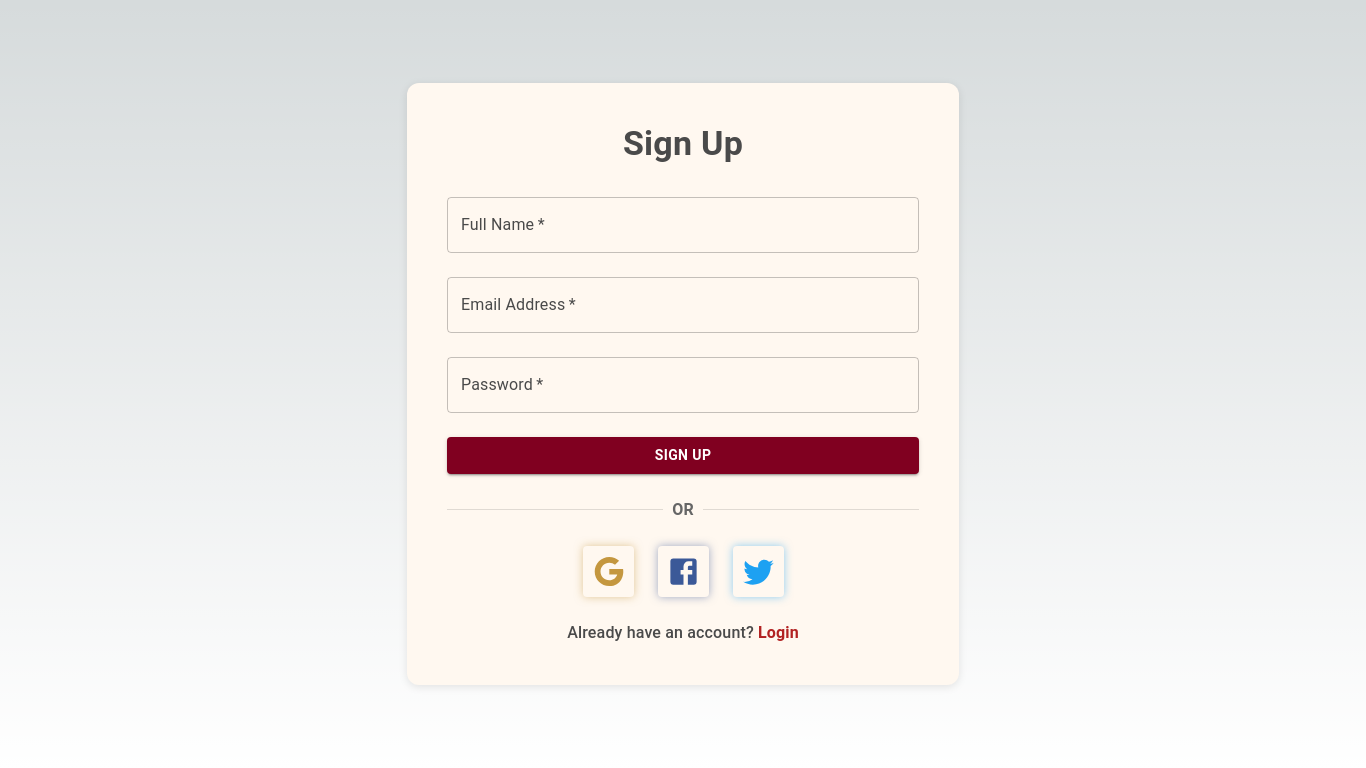
it: SignupPage › shows success and redirects on successful signup
The image size is (1366, 768).
Type "Test User" into the field labelled "Full Name *" at (683, 225), box left=447, top=197, right=919, bottom=253
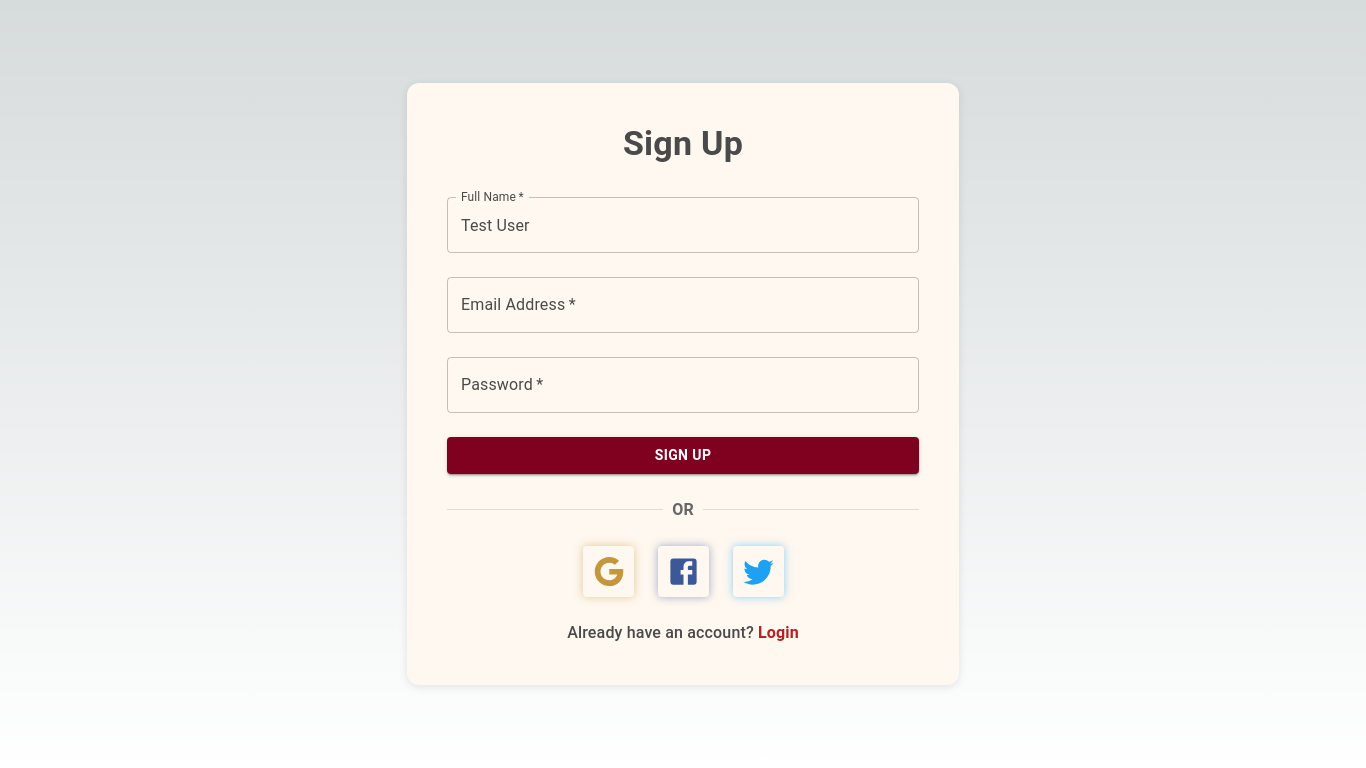
Type "test@example.com" into the field labelled "Email Address *" at (683, 305), box left=447, top=277, right=919, bottom=333
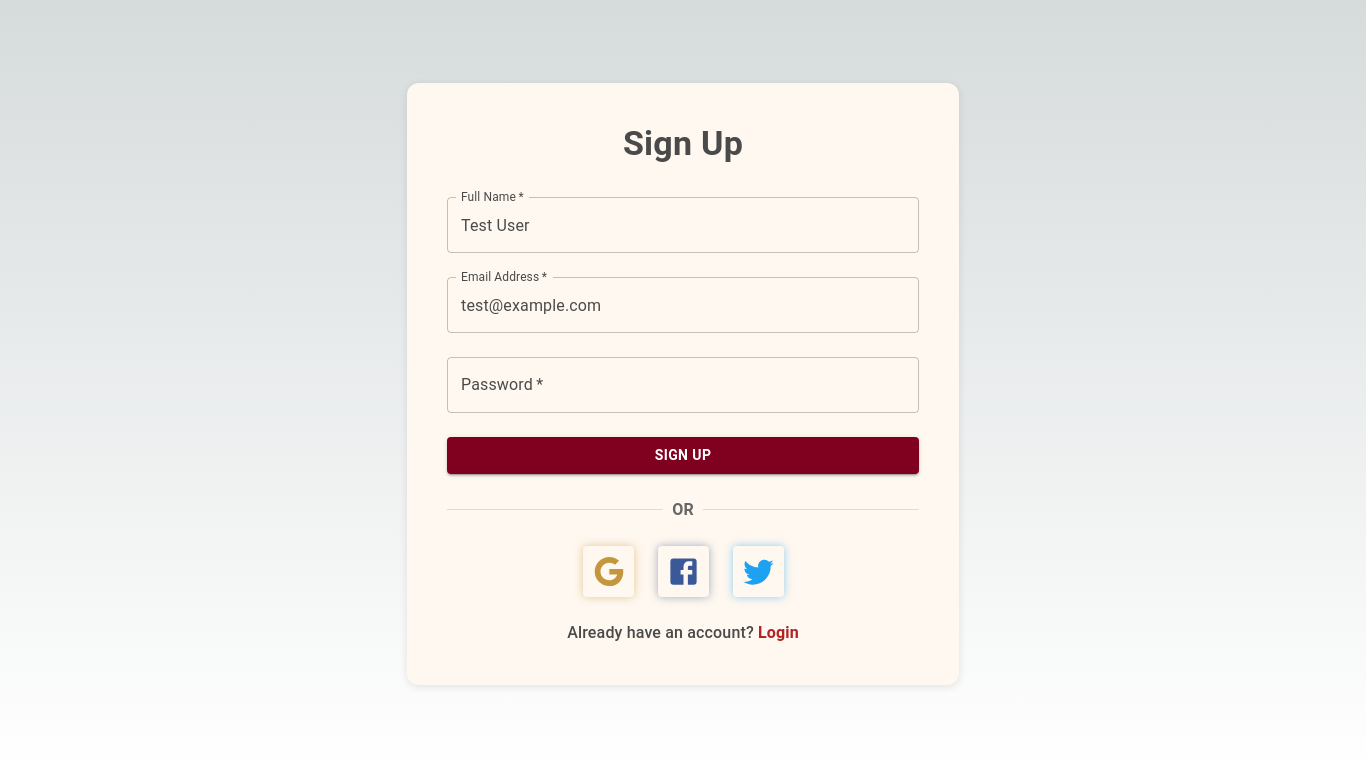
Type "password123" into the password field labelled "Password *" at (683, 385), box left=447, top=357, right=919, bottom=413
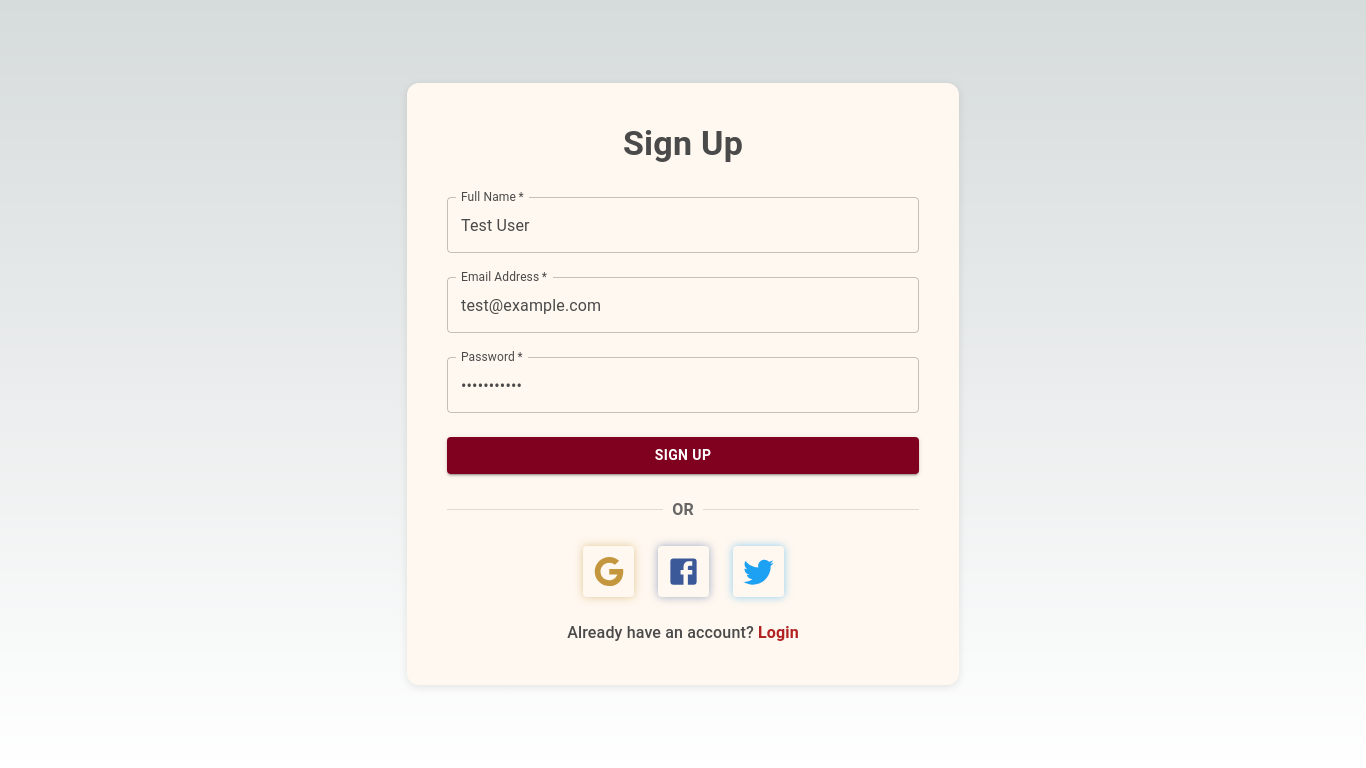
Click the button "Sign Up" at (683, 455), box left=447, top=437, right=919, bottom=474
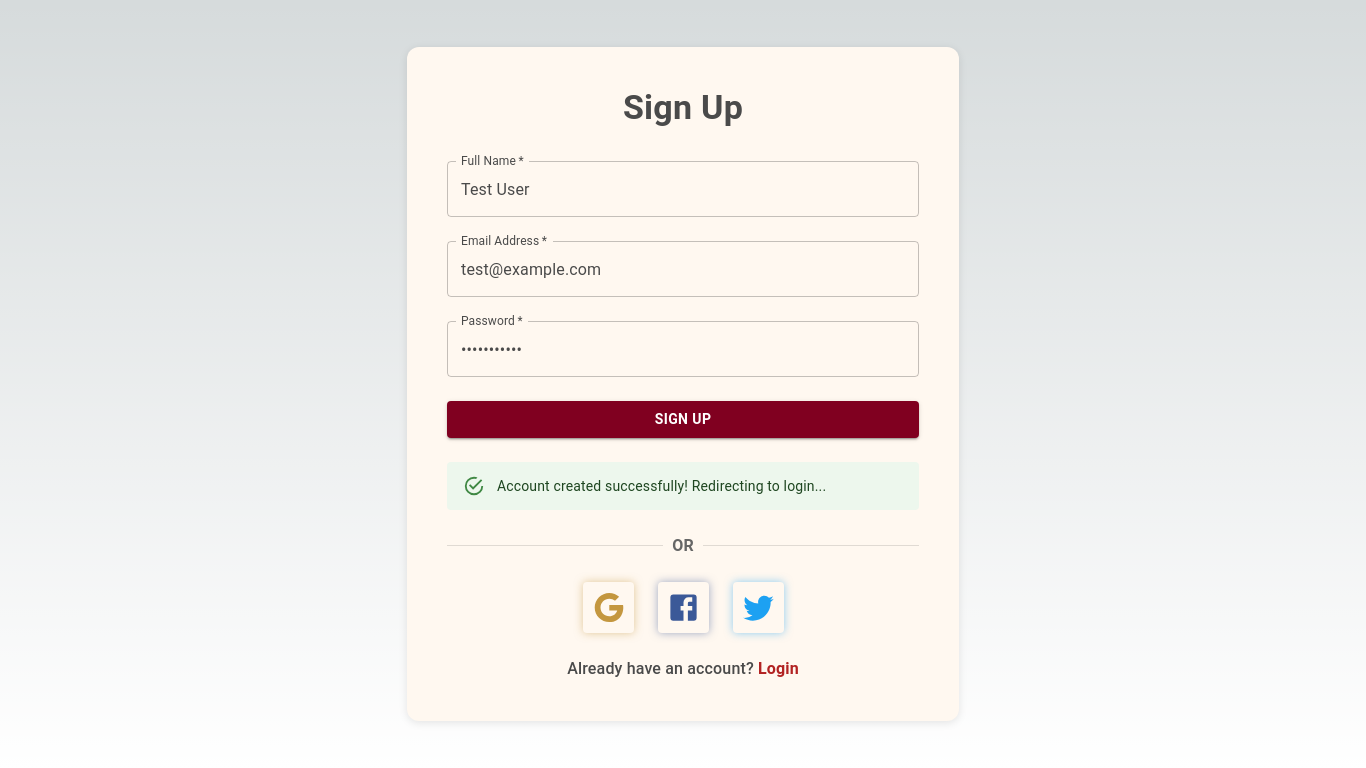
Check: the text "Account created successfully! Redirecting to login..." is shown, box left=497, top=478, right=826, bottom=494
